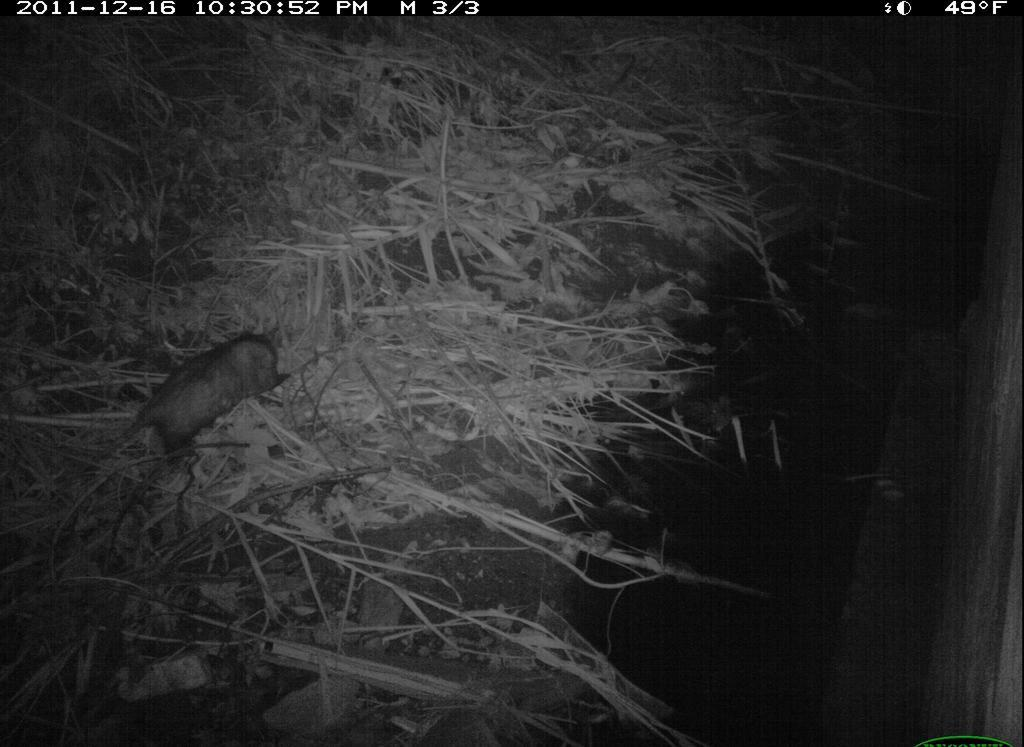opossum: (81, 318, 296, 486)
